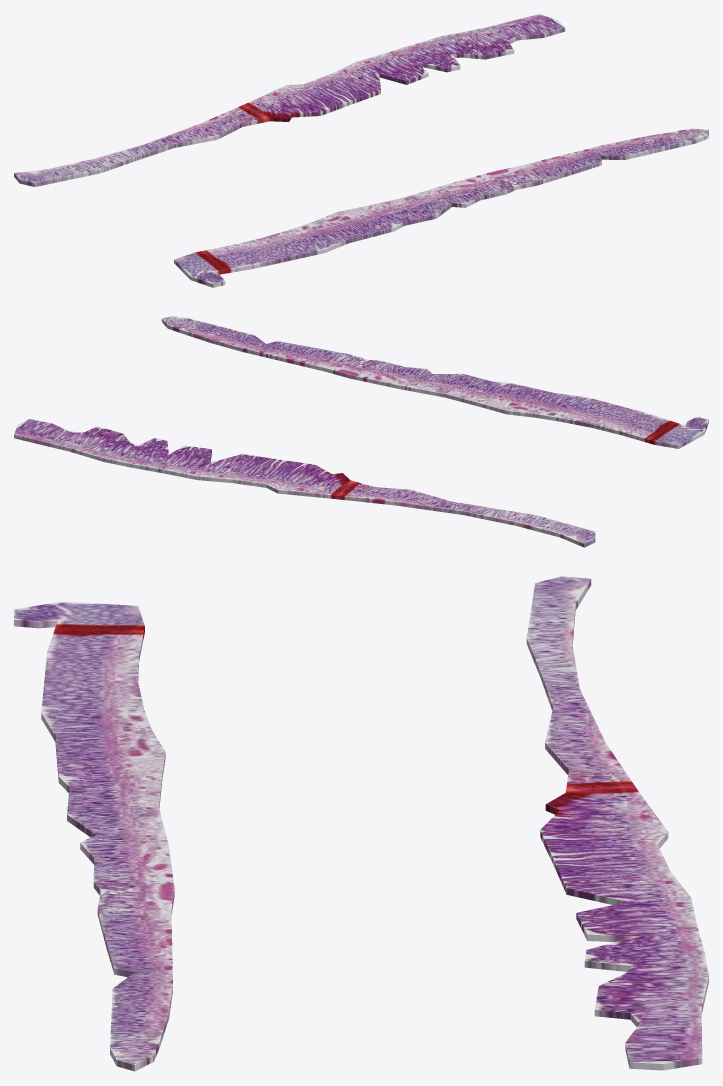
The picture shows the model from 3 angles, top to bottom: view 1: azimuth 30°, elevation 25°; view 2: azimuth 150°, elevation 25°; view 3: azimuth 270°, elevation 25°; orthographic projection. The views are drawn at different scales.
Visible parts, largest first — view 1: 平面; view 2: 平面; view 3: 平面.
Boxes of the visible parts, bbox=[...] form: 平面: bbox=[14, 14, 708, 287]; 平面: bbox=[14, 316, 708, 547]; 平面: bbox=[14, 576, 708, 1071].
Size of the model in its own units: 22.8 by 0.14 by 13.7.
Materials: 1 (1 with a texture image).
